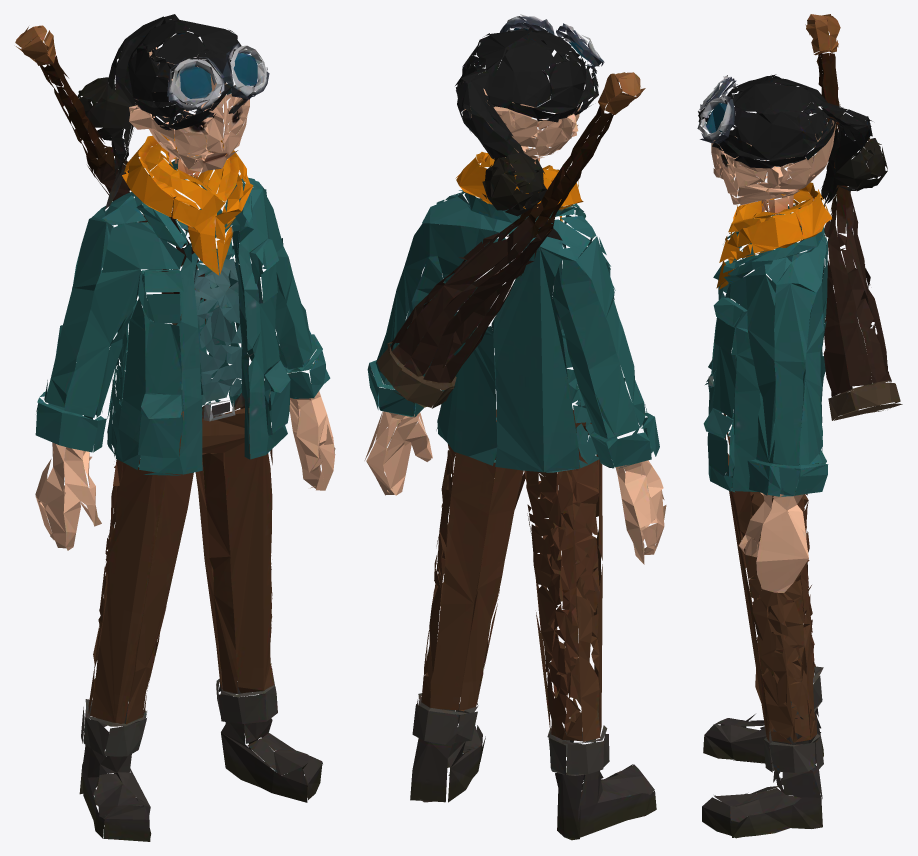
File: habitant.glb
3 renders of one model, left to right at view 1: azimuth 30°, elevation 25°; view 2: azimuth 150°, elevation 25°; view 3: azimuth 270°, elevation 25°, orthographic. The views are drawn at different scales.
Visible parts, largest first — view 1: world; view 2: world; view 3: world.
Boxes of the visible parts, bbox=[...] form: world: bbox=[15, 14, 335, 841]; world: bbox=[364, 14, 666, 840]; world: bbox=[697, 14, 902, 838].
Bounding box in the file's own units: 0.3909 × 1 × 0.2589.
Materials: 1 (1 with a texture image).
